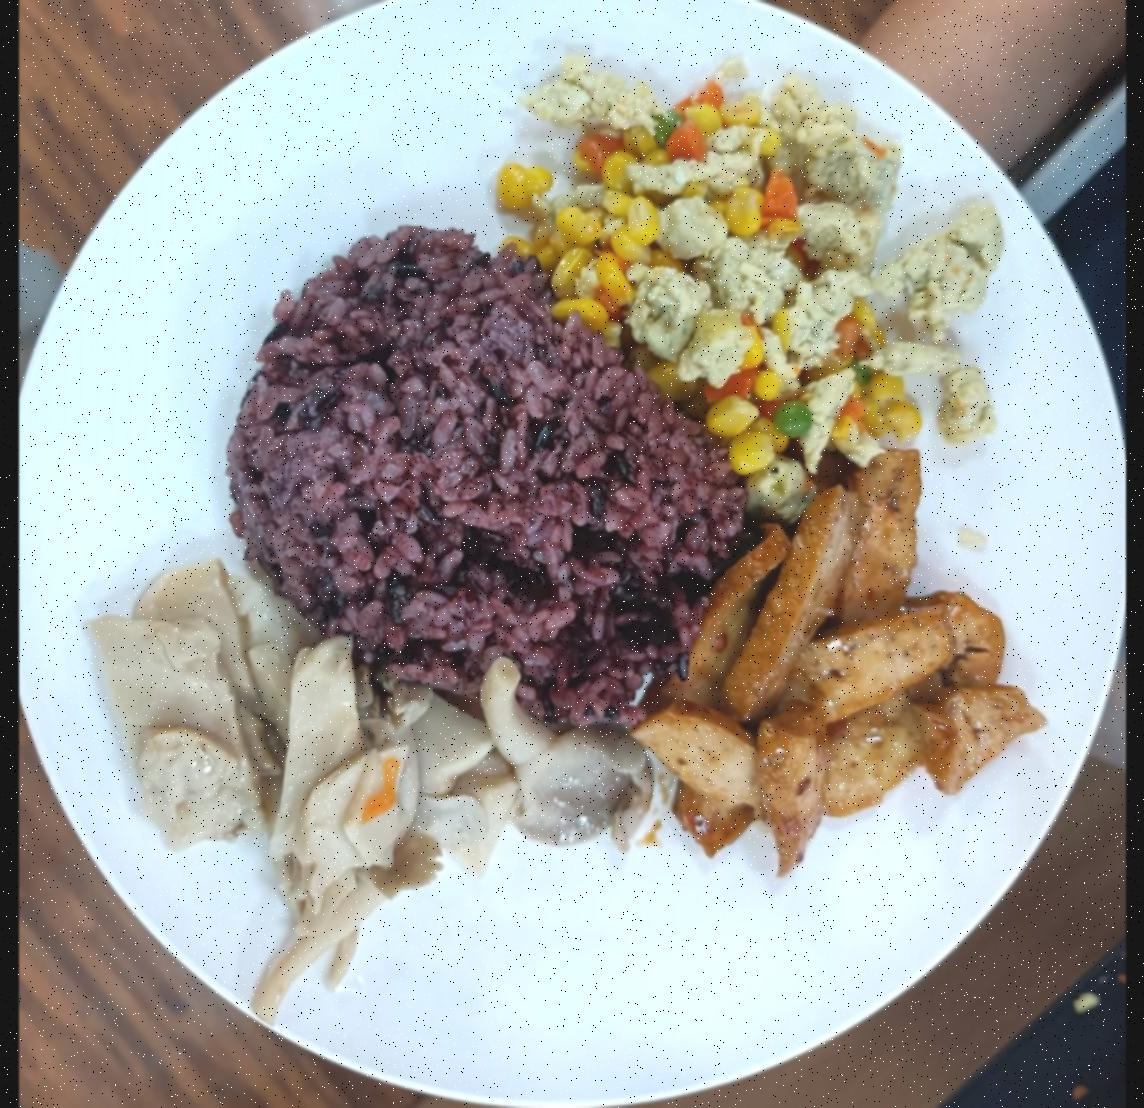plate: (22, 0, 1113, 1105)
purple rice: (243, 253, 717, 692)
side dish: (568, 33, 985, 446), (120, 624, 661, 898), (689, 530, 1015, 851)
